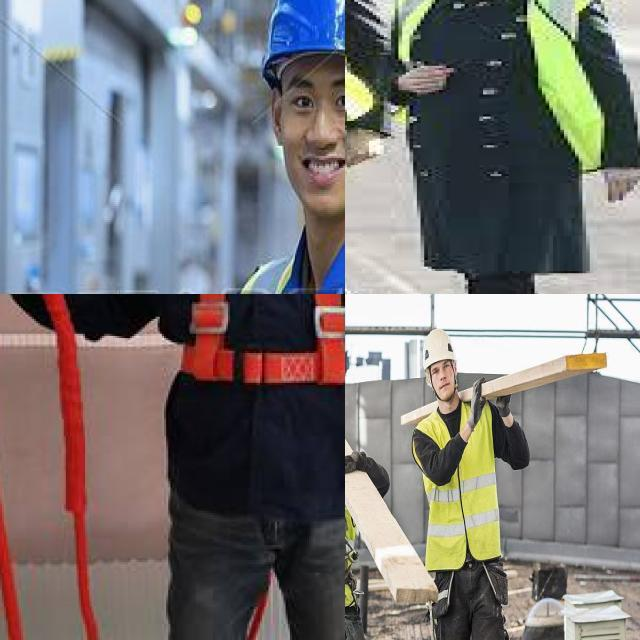Harness: (155, 294, 345, 543)
No_Ear-Protection: (452, 358, 458, 376)
No_Glasses: (428, 359, 453, 377)
face_nomask: (276, 59, 345, 220)
hand_noglove: (398, 59, 458, 97), (345, 123, 391, 167), (597, 169, 640, 200)
head_helmet: (262, 0, 345, 67), (424, 328, 459, 361)
person: (391, 0, 611, 294), (157, 0, 345, 294), (412, 325, 510, 640)
vest: (391, 0, 619, 147), (422, 401, 502, 552), (345, 473, 361, 612)
